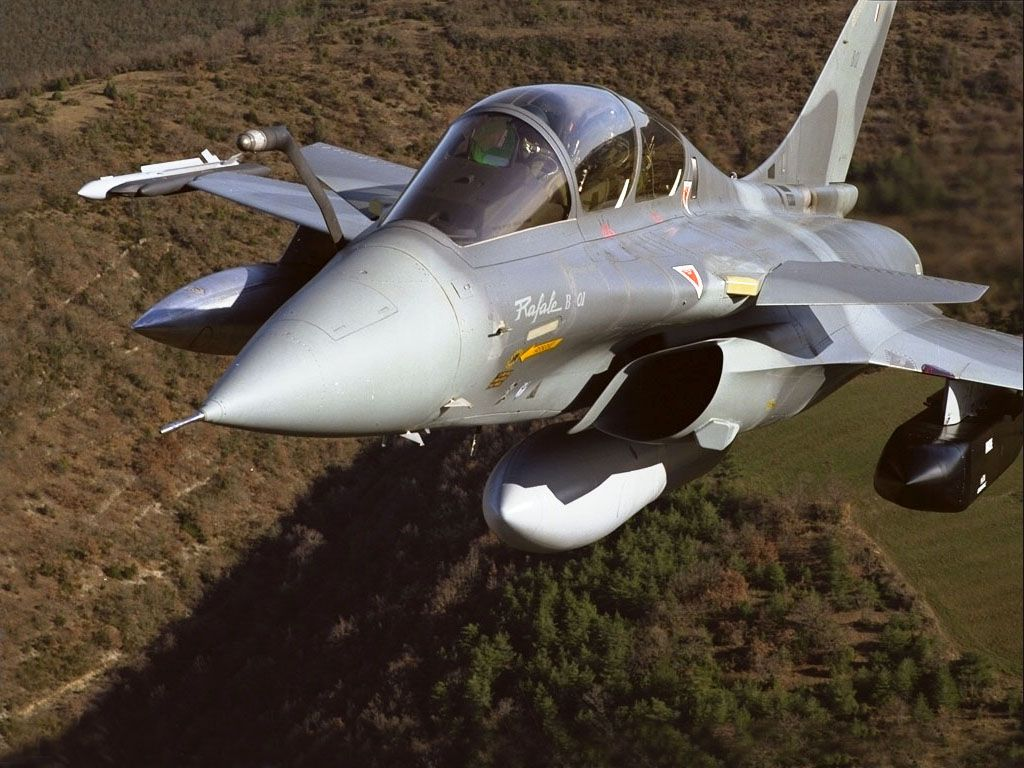Aeronef_militaire: (67, 1, 1024, 561)
